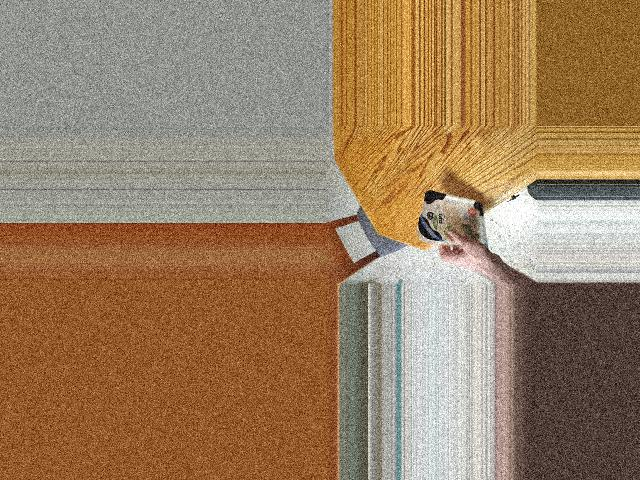cheese: (415, 194, 499, 250)
